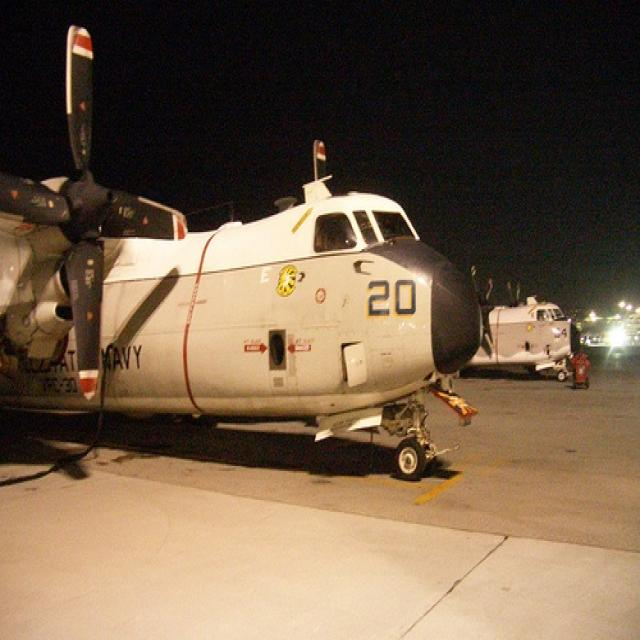aeroplane: (1, 24, 502, 488), (471, 260, 594, 388)
